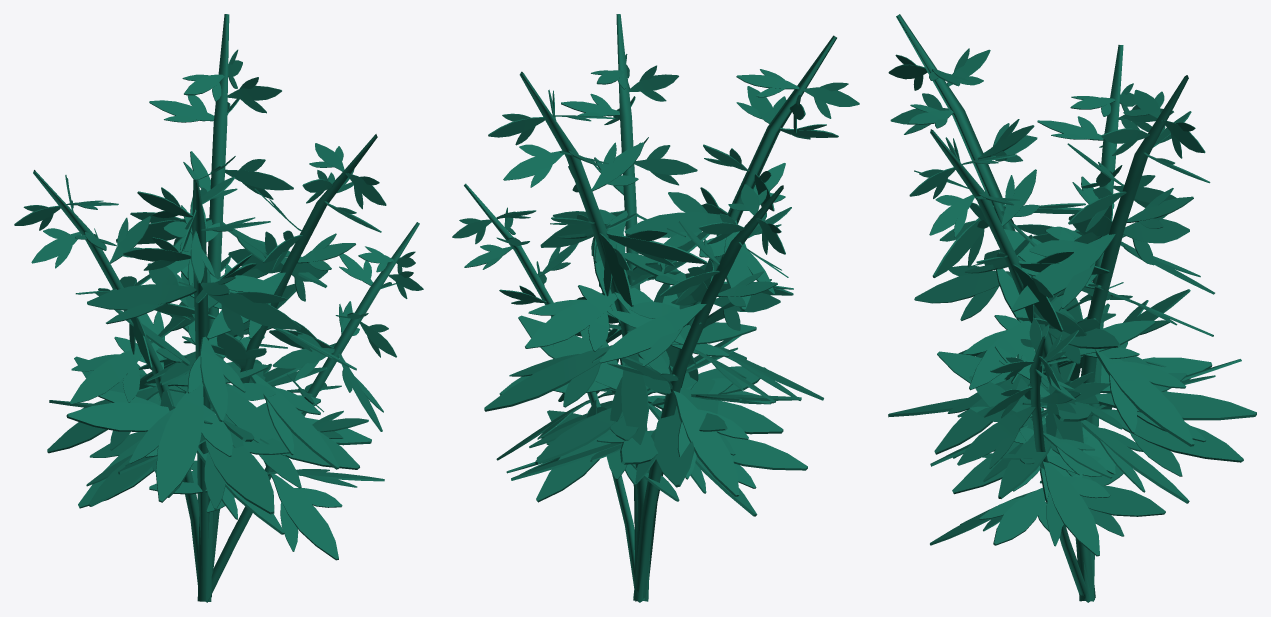
3 renders of one model, left to right at view 1: azimuth 30°, elevation 25°; view 2: azimuth 150°, elevation 25°; view 3: azimuth 270°, elevation 25°, orthographic. The views are drawn at different scales.
Visible parts, largest first — view 1: SM_BO_Sagewort_LOD0; view 2: SM_BO_Sagewort_LOD0; view 3: SM_BO_Sagewort_LOD0.
Part boxes in pixels (bbox=[...]): SM_BO_Sagewort_LOD0: bbox=[14, 14, 423, 602]; SM_BO_Sagewort_LOD0: bbox=[452, 14, 859, 602]; SM_BO_Sagewort_LOD0: bbox=[888, 14, 1256, 602].
Bounding box in the file's own units: 0.4233 × 0.5953 × 0.3549.
